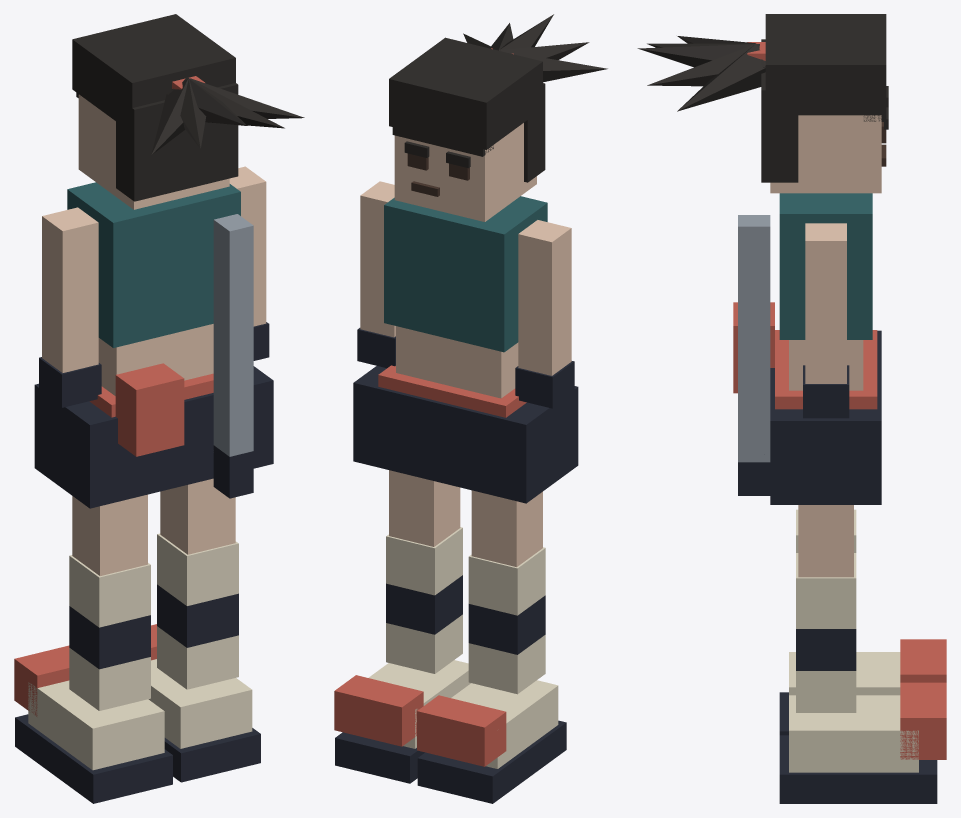
File: skye.glb
3 renders of one model, left to right at view 1: azimuth 30°, elevation 25°; view 2: azimuth 150°, elevation 25°; view 3: azimuth 270°, elevation 25°, orthographic. The views are drawn at different scales.
Parts seen in each view (by area): view 1: Top, HairTop, ShortsL, Rifle, ArmLSkin, HairBack, ShoeL, ShoeR, Pouch, SoleL, LegLSkin, ShortsR (+21 smaller); view 2: Top, HairTop, ShortsL, ArmLSkin, ShortsR, Face, Midriff, SoleL, ToeL, ToeR, LegLSkin, LegRSkin (+18 smaller); view 3: HairTop, ShortsR, Top, ShoeR, Rifle, Face, ArmRSkin, SoleR, LegRSkin, ToeR, HairBack, SockR0 (+12 smaller).
Part boxes in pixels (bbox=[...]): Top: bbox=[67, 182, 240, 347]; HairTop: bbox=[72, 14, 235, 132]; ShortsL: bbox=[34, 383, 185, 508]; Rifle: bbox=[213, 214, 253, 456]; ArmLSkin: bbox=[42, 207, 98, 372]; HairBack: bbox=[116, 83, 238, 201]; ShoeL: bbox=[28, 680, 164, 770]; ShoeR: bbox=[148, 659, 252, 748]; Pouch: bbox=[115, 363, 184, 456]; SoleL: bbox=[15, 714, 172, 803]; LegLSkin: bbox=[72, 494, 147, 575]; ShortsR: bbox=[177, 366, 273, 486]; Top: bbox=[384, 196, 547, 352]; HairTop: bbox=[389, 37, 542, 149]; ShortsL: bbox=[436, 386, 578, 503]; ArmLSkin: bbox=[518, 220, 571, 375]; ShortsR: bbox=[353, 366, 443, 483]; Face: bbox=[394, 123, 536, 221]; Midriff: bbox=[396, 326, 518, 398]; SoleL: bbox=[417, 720, 566, 803]; ToeL: bbox=[417, 695, 506, 766]; ToeR: bbox=[334, 675, 423, 746]; LegLSkin: bbox=[471, 490, 542, 567]; LegRSkin: bbox=[389, 470, 460, 546]; HairTop: bbox=[765, 14, 886, 115]; ShortsR: bbox=[770, 374, 881, 504]; Top: bbox=[779, 193, 872, 339]; ShoeR: bbox=[789, 695, 918, 772]; Rifle: bbox=[738, 215, 770, 462]; Face: bbox=[770, 115, 881, 193]; ArmRSkin: bbox=[805, 223, 846, 383]; SoleR: bbox=[779, 735, 937, 803]; LegRSkin: bbox=[798, 505, 853, 577]; ToeR: bbox=[900, 682, 946, 759]; HairBack: bbox=[761, 39, 798, 182]; SockR0: bbox=[796, 553, 856, 628].
Bounding box in the file's own units: 0.4836 × 1.6 × 0.6204.
